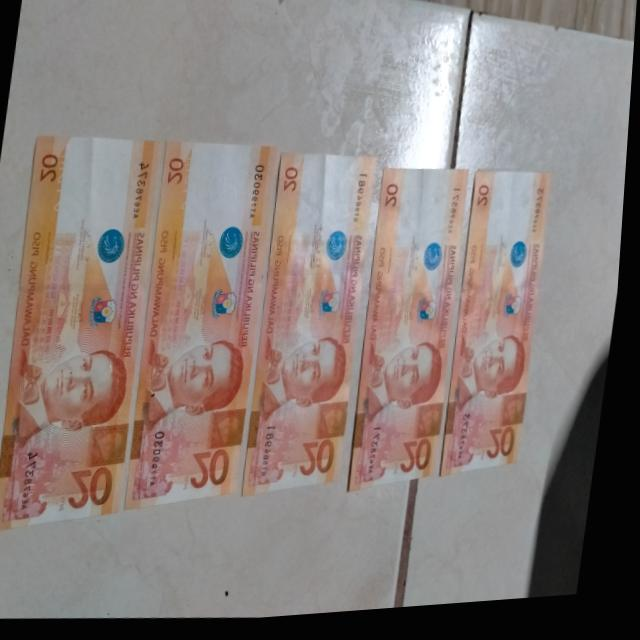concealed_value: (91, 420, 134, 469), (211, 412, 253, 456)
see_through_mark: (293, 166, 312, 230)
serial_number: (129, 156, 157, 225), (148, 426, 175, 491), (22, 446, 45, 512), (248, 161, 271, 226)
value: (190, 445, 245, 503), (70, 460, 127, 513)
value_watermark: (418, 178, 436, 198), (87, 148, 103, 167), (208, 152, 225, 166), (319, 165, 334, 180)
watermark: (299, 176, 367, 234)
